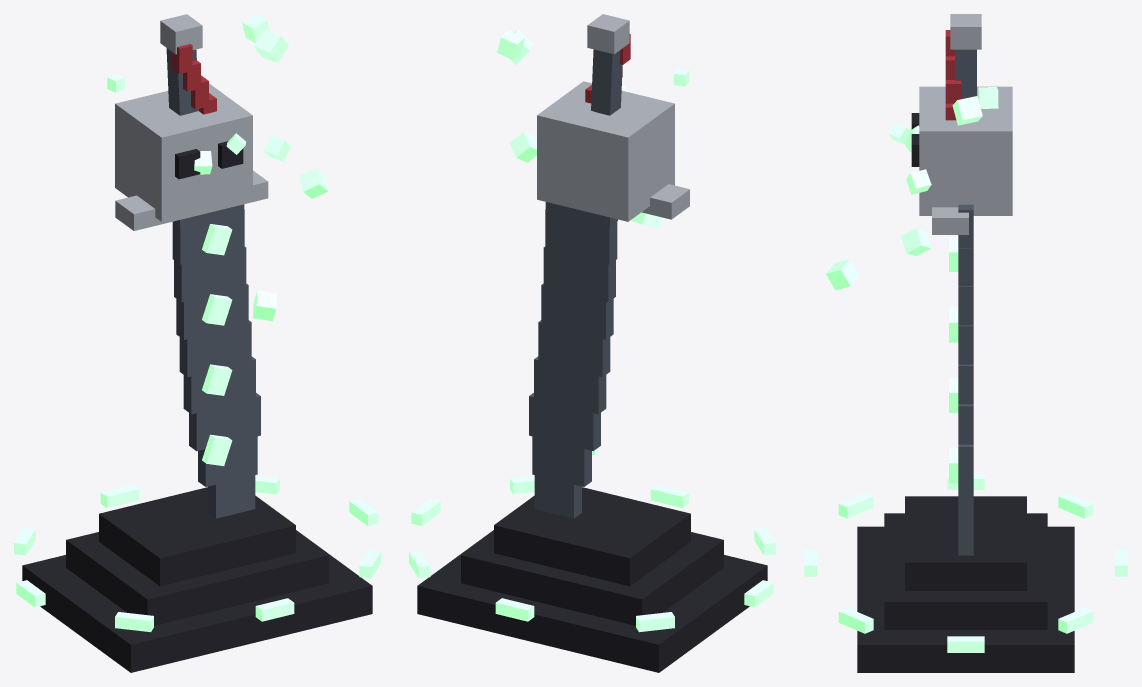
The picture shows the model from 3 angles, left to right: view 1: azimuth 30°, elevation 25°; view 2: azimuth 150°, elevation 25°; view 3: azimuth 270°, elevation 25°; orthographic projection.
Visible parts, largest first — view 1: R037_Gem, R037_Main, R037_Accent, R037_Aura_Runes, R037_Glow, R037_Trim; view 2: R037_Gem, R037_Main, R037_Accent, R037_Aura_Runes; view 3: R037_Gem, R037_Accent, R037_Aura_Runes, R037_Main, R037_Glow, R037_Trim.
Part boxes in pixels (box(x1,y1,x2,y2)): R037_Gem: box(22, 141, 372, 672); R037_Main: box(166, 48, 260, 518); R037_Accent: box(115, 14, 268, 230); R037_Aura_Runes: box(14, 14, 380, 632); R037_Glow: box(202, 224, 232, 465); R037_Trim: box(171, 44, 216, 114); R037_Gem: box(417, 487, 767, 672); R037_Main: box(529, 49, 622, 518); R037_Accent: box(537, 14, 689, 221); R037_Aura_Runes: box(409, 29, 775, 632); R037_Gem: box(857, 113, 1074, 672); R037_Accent: box(919, 14, 1012, 234); R037_Aura_Runes: box(804, 87, 1127, 652); R037_Main: box(955, 49, 976, 555); R037_Glow: box(949, 237, 958, 483); R037_Trim: box(945, 30, 961, 120).
Bounding box in the file's own units: 1.28 × 2.08 × 1.04.
